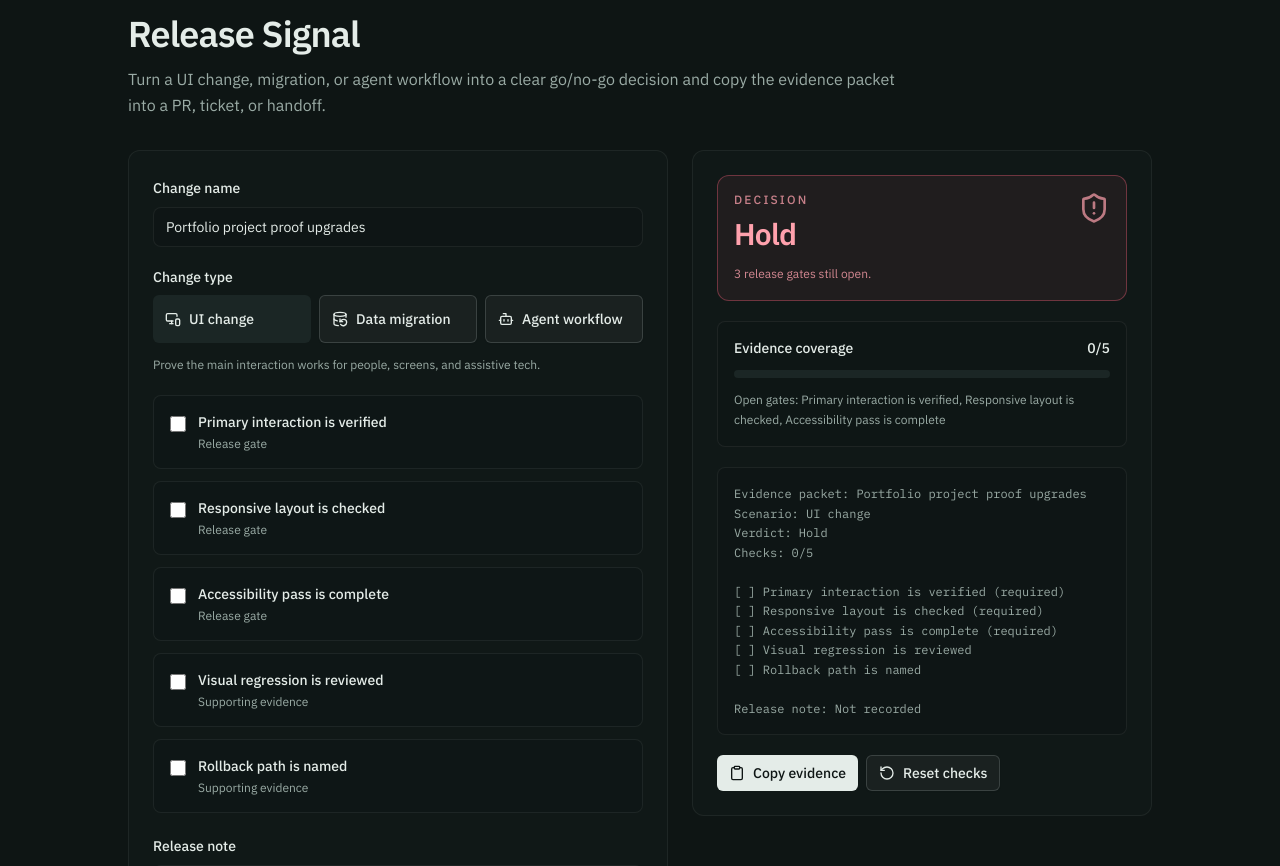
it: ReleaseSignal › moves through hold, ready with notes, and ready verdicts
Check: the text with test id "release-verdict" reads "Hold", box [734, 214, 796, 253]
Click the checkbox labelled "Primary interaction is verified Release gate" at (178, 424), box [170, 416, 186, 432]
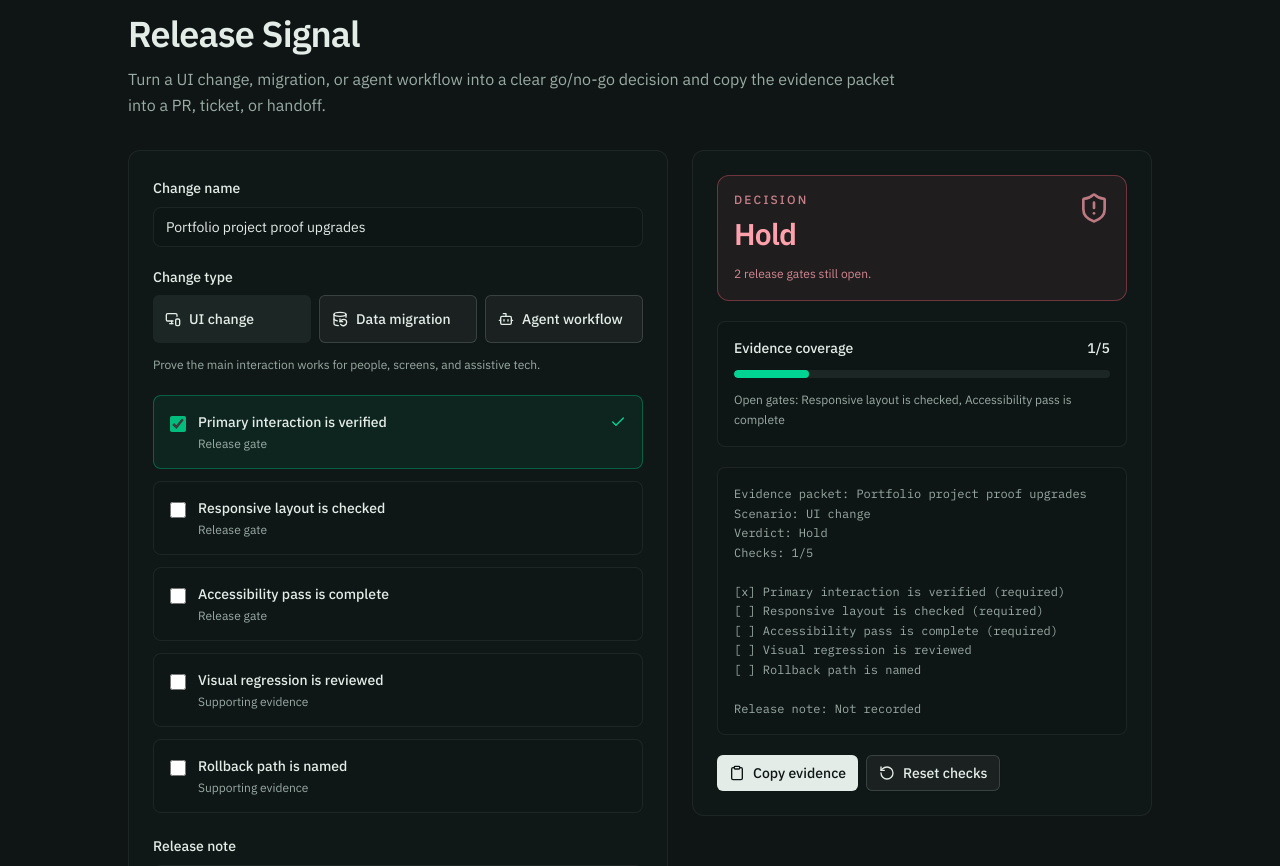
Click the checkbox labelled "Responsive layout is checked Release gate" at (178, 510), box [170, 502, 186, 518]
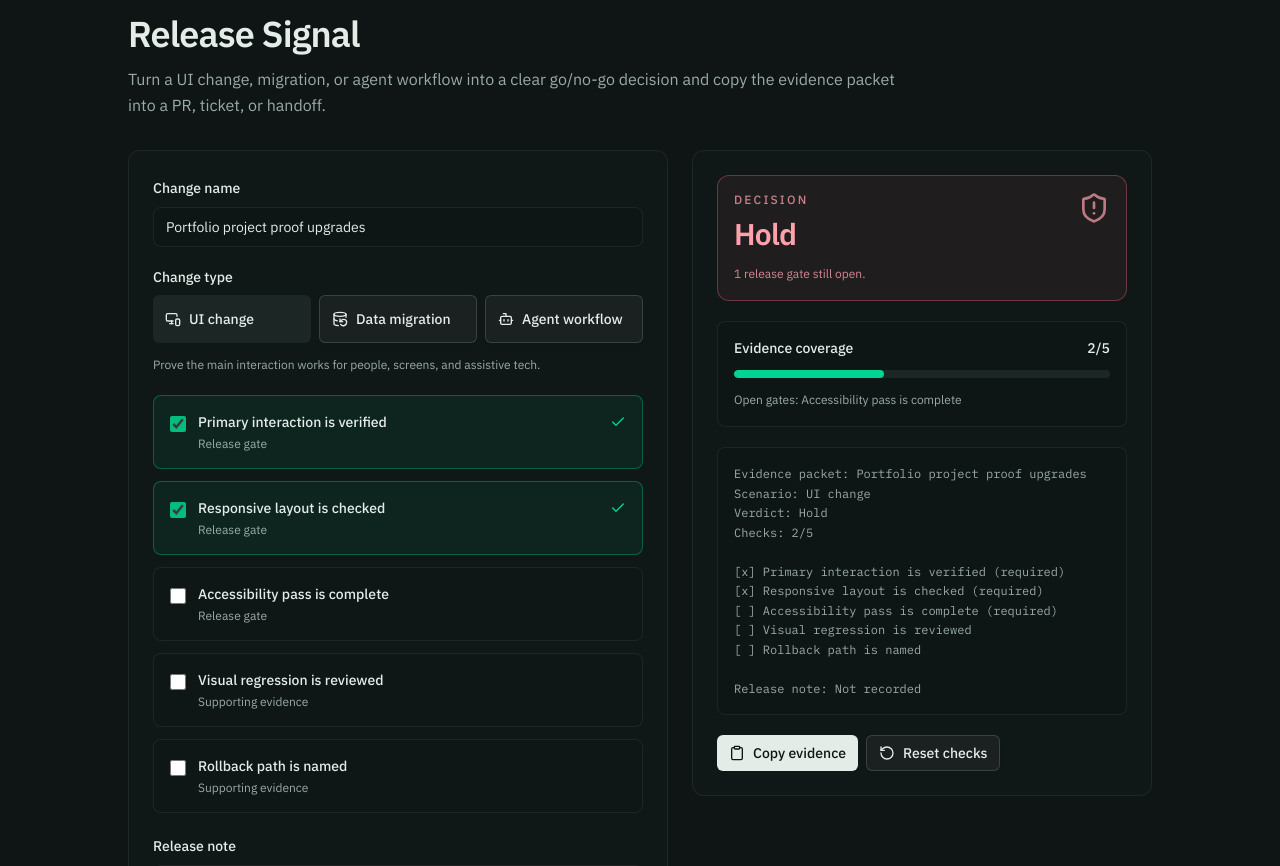
Click the checkbox labelled "Accessibility pass is complete Release gate" at (178, 596), box [170, 588, 186, 604]
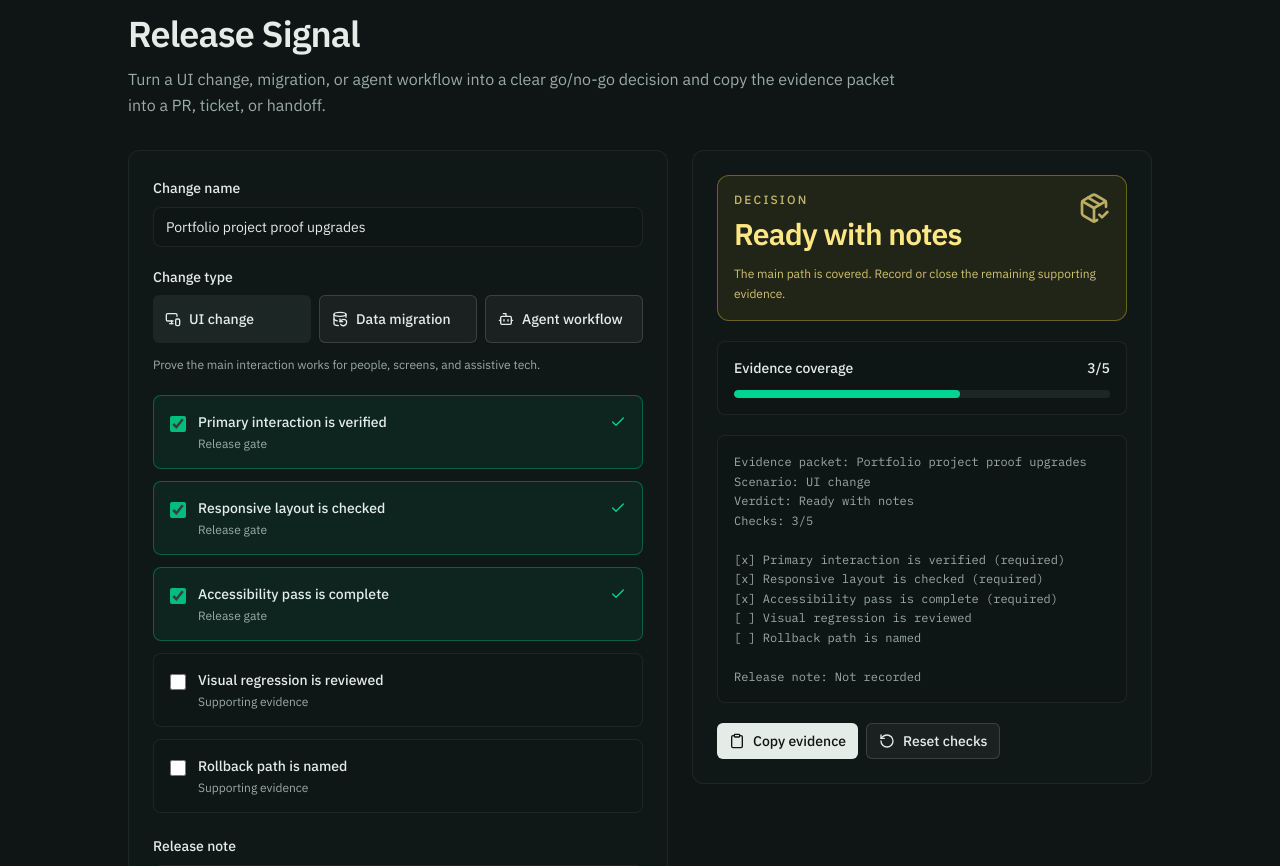
Check: the text with test id "release-verdict" reads "Ready with notes", box [734, 214, 962, 253]
Click the checkbox labelled "Visual regression is reviewed Supporting evidence" at (178, 682), box [170, 674, 186, 690]
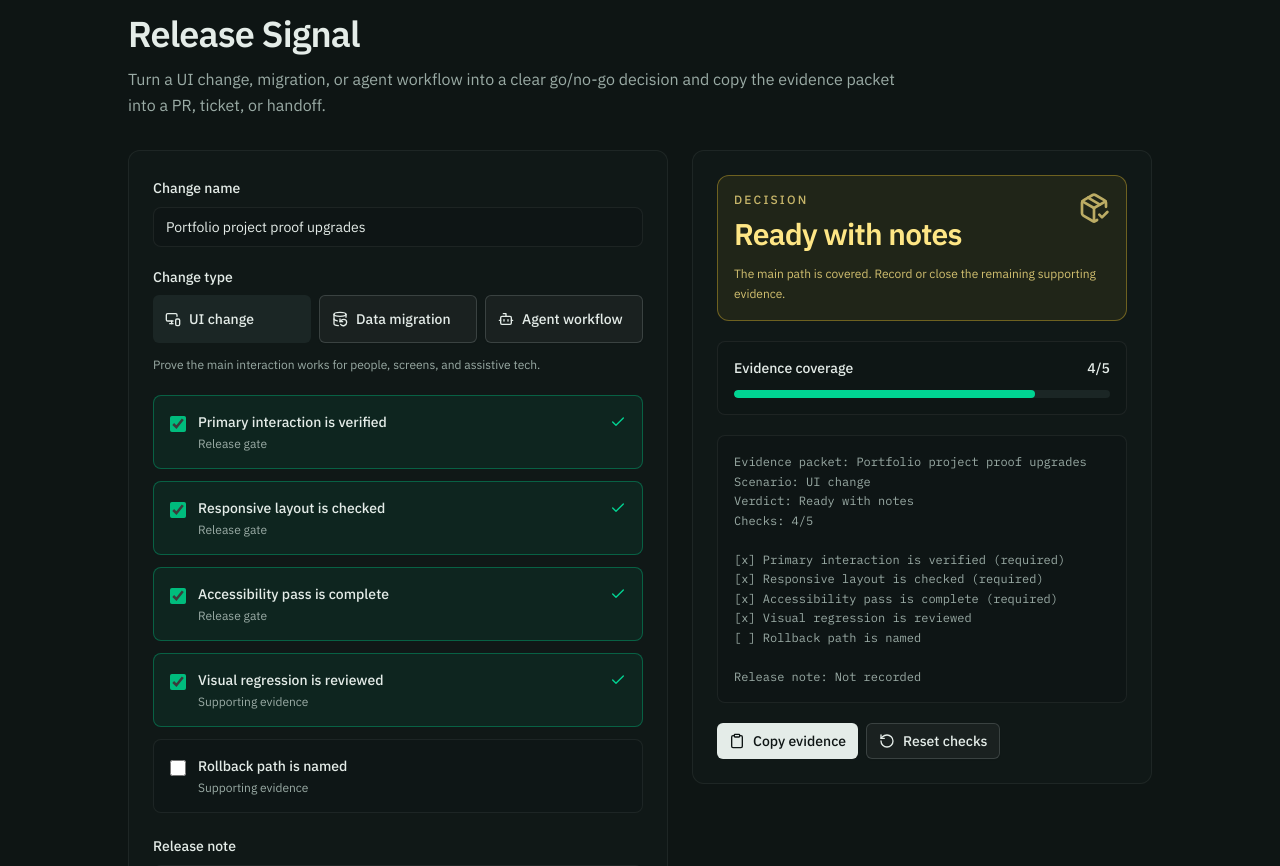
Click the checkbox labelled "Rollback path is named Supporting evidence" at (178, 768), box [170, 760, 186, 776]
(page scrolled)
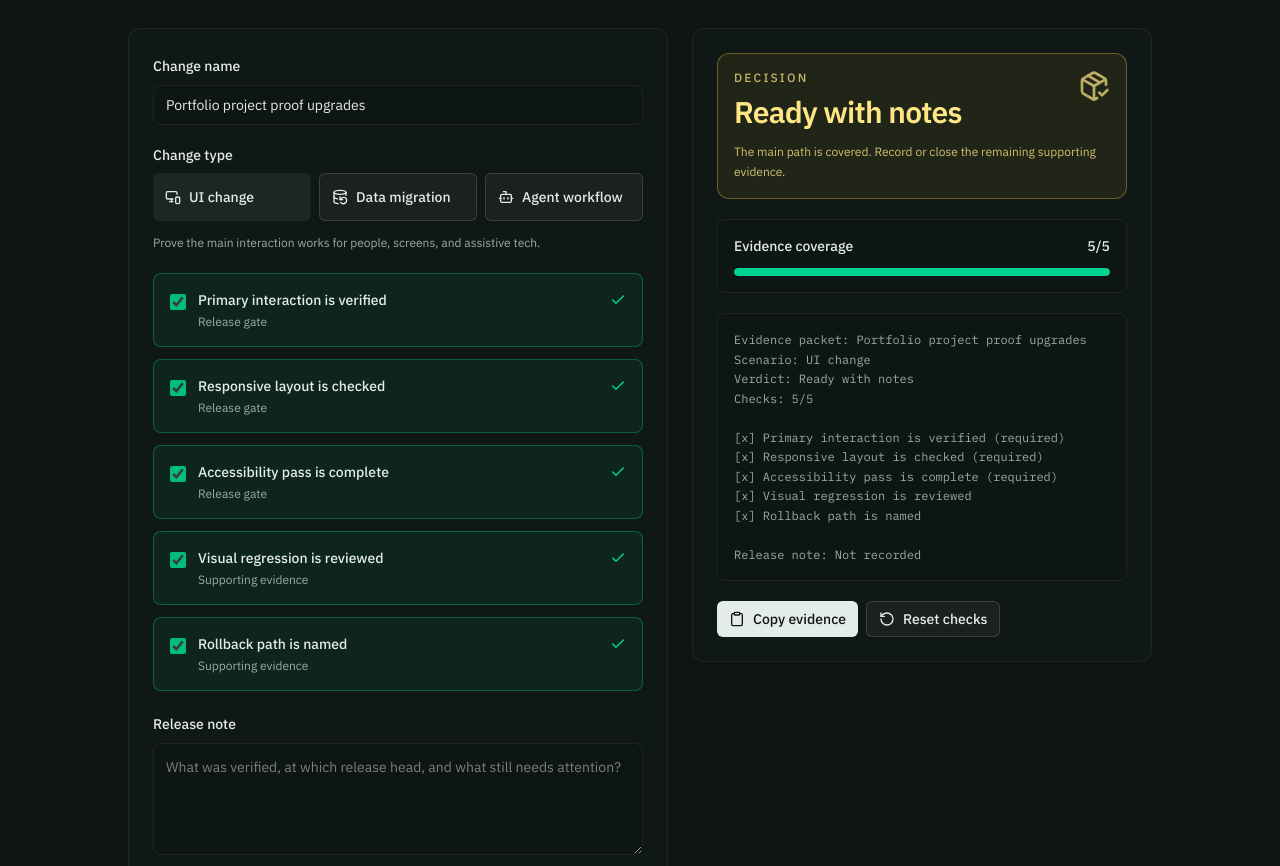
Replace the text in the text box labelled "Release note" with "Verified at the release head." at (398, 799), box [153, 743, 643, 855]
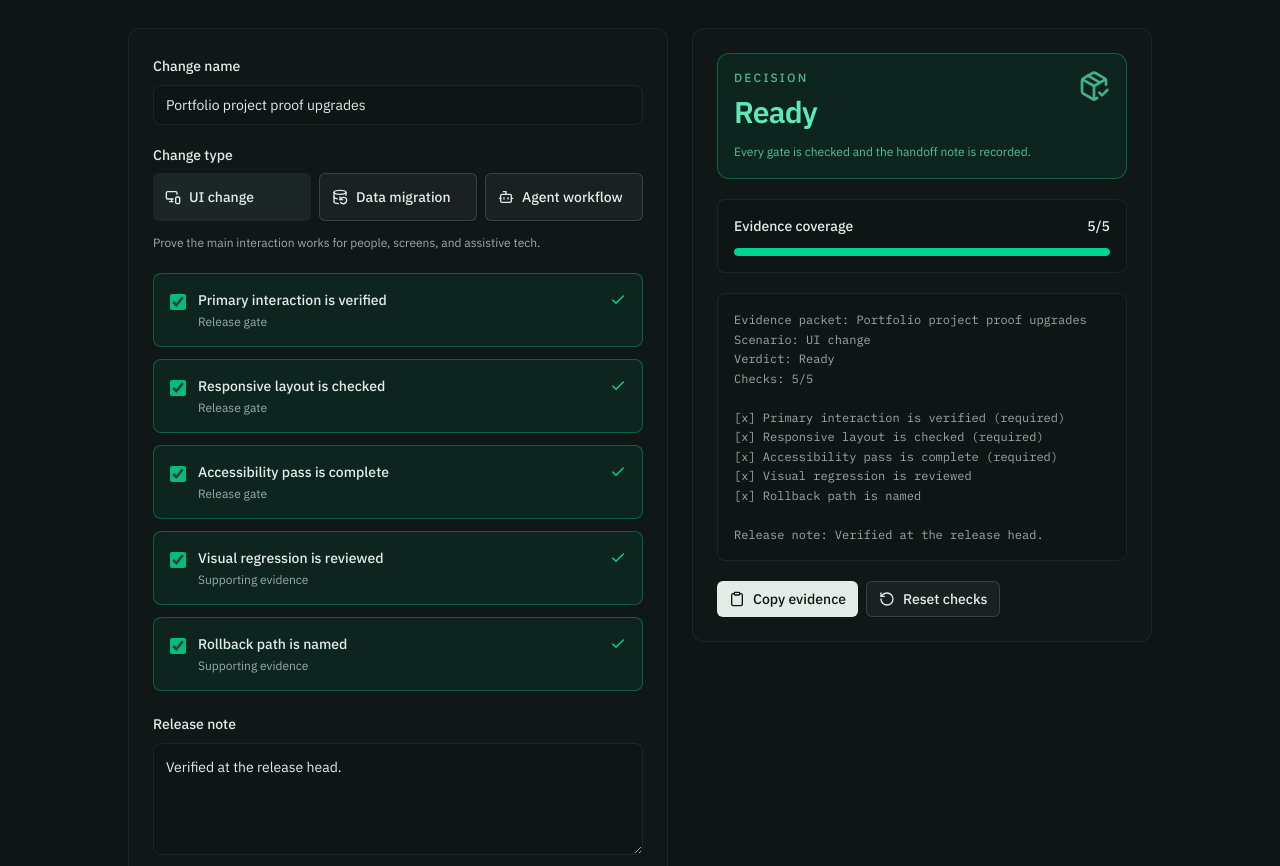
Check: the text with test id "release-verdict" reads "Ready", box [734, 92, 817, 131]
